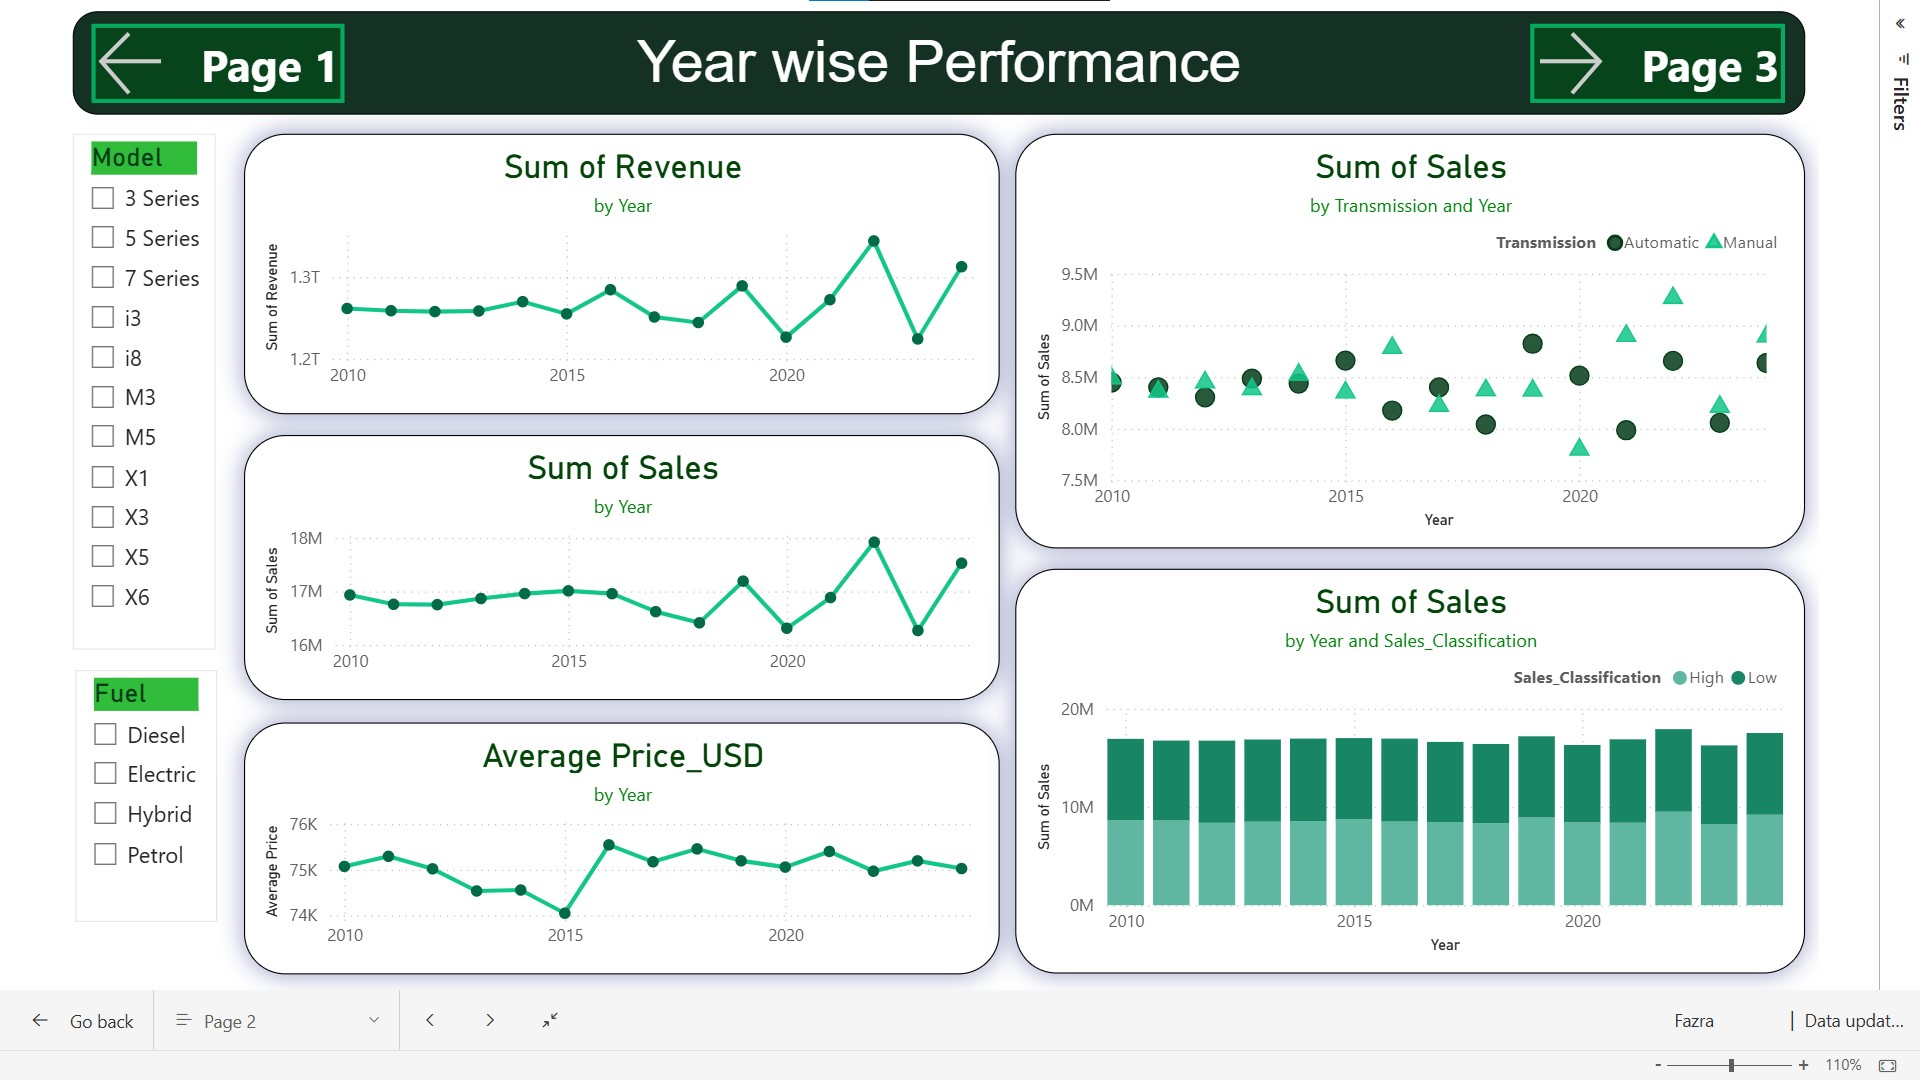

The page's visual inventory and layout, read from the dashboard file:
{"tool":"powerbi","page":{"name":"Page 2","canvas":[1280,720],"ordinal":1},"visuals":[{"type":"slicer","fields":{"Values":["BMW sales data (2010-2024).Model"]},"box":[9.8,96.9,104.3,375.5],"z":0},{"type":"lineChart","fields":{"Category":["BMW sales data (2010-2024).Year"],"Y":["Sum(BMW sales data (2010-2024).Revenue)"]},"box":[135,96.9,549.7,203.7],"z":1000},{"type":"lineChart","title":"Average Price_USD","fields":{"Category":["BMW sales data (2010-2024).Year"],"Y":["Avg(BMW sales data (2010-2024).Price_USD)"]},"box":[135,525.2,549.7,182.8],"z":2000},{"type":"lineChart","title":"Sum of Sales","fields":{"Category":["BMW sales data (2010-2024).Year"],"Y":["Sum(BMW sales data (2010-2024).Sales_Volume)"]},"box":[135,316.6,549.7,192.6],"z":3000},{"type":"columnChart","title":"Sum of Sales","fields":{"Category":["BMW sales data (2010-2024).Year"],"Y":["Sum(BMW sales data (2010-2024).Sales_Volume)"],"Series":["BMW sales data (2010-2024).Sales_Classification"]},"box":[695.7,413.5,574.2,294.5],"z":4000},{"type":"scatterChart","title":"Sum of Sales","fields":{"X":["BMW sales data (2010-2024).Year"],"Series":["BMW sales data (2010-2024).Transmission"],"Y":["Sum(BMW sales data (2010-2024).Sales_Volume)"]},"box":[695.7,96.9,574.2,301.8],"z":5000},{"type":"slicer","fields":{"Values":["BMW sales data (2010-2024).Fuel_Type"]},"box":[12.3,487.1,103.1,182.8],"z":6000},{"type":"textbox","box":[9.8,8.6,1260.1,74.8],"z":7000},{"type":"actionButton","box":[23.3,17.2,184.1,57.7],"z":8000},{"type":"actionButton","box":[1069.9,17.2,185.3,57.7],"z":9000}]}

Visuals, with their boxes on the page's 1280x720 design canvas (x1, y1, x2, y2). These are canvas units, not pixel positions in the 1920x1080 screenshot, which may show the page scaled, cropped or inside an application window:
slicer - BMW sales data (2010-2024).Model: x1=10 y1=97 x2=114 y2=472
lineChart - BMW sales data (2010-2024).Year x Sum(BMW sales data (2010-2024).Revenue): x1=135 y1=97 x2=685 y2=301
"Average Price_USD" lineChart: x1=135 y1=525 x2=685 y2=708
"Sum of Sales" lineChart: x1=135 y1=317 x2=685 y2=509
"Sum of Sales" columnChart: x1=696 y1=414 x2=1270 y2=708
"Sum of Sales" scatterChart: x1=696 y1=97 x2=1270 y2=399
slicer - BMW sales data (2010-2024).Fuel_Type: x1=12 y1=487 x2=115 y2=670
textbox: x1=10 y1=9 x2=1270 y2=83
actionButton: x1=23 y1=17 x2=207 y2=75
actionButton: x1=1070 y1=17 x2=1255 y2=75
